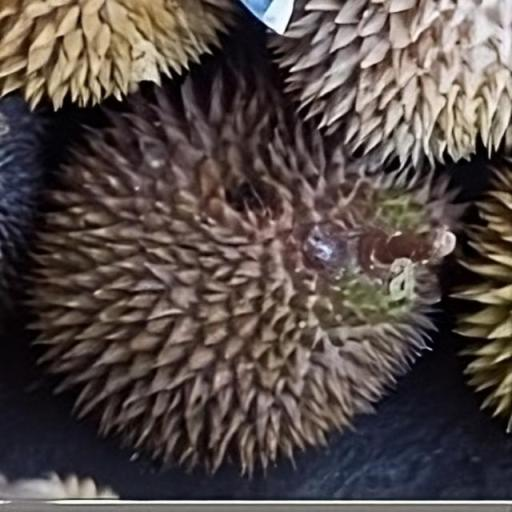rot: (0, 17, 509, 512)
